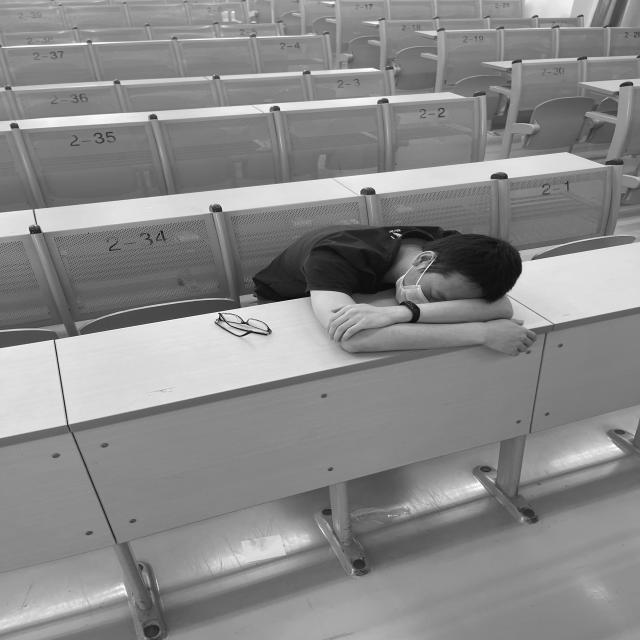sleep: (252, 224, 539, 357)
